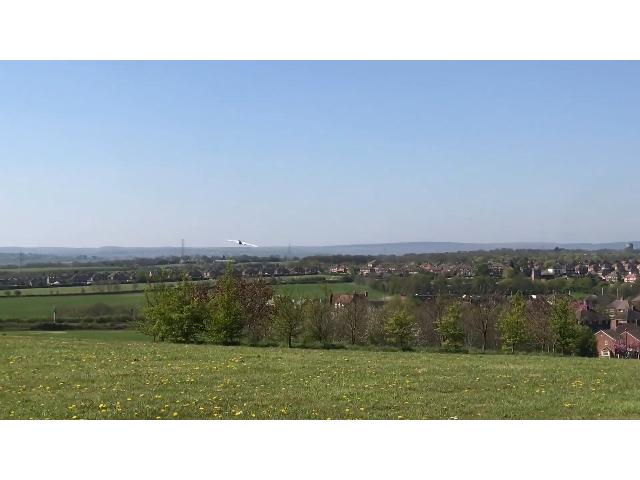Anti-Drone: (222, 236, 260, 253)
